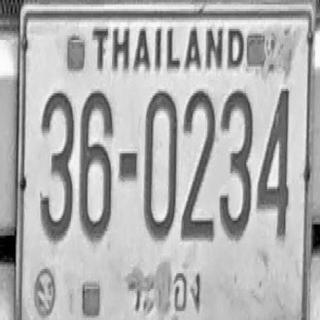N00: (144, 89, 178, 240)
N02: (182, 89, 216, 240)
N03: (219, 88, 253, 239), (40, 91, 74, 242)
N04: (257, 87, 289, 240)
N06: (79, 88, 113, 241)
P53: (124, 254, 203, 316)
